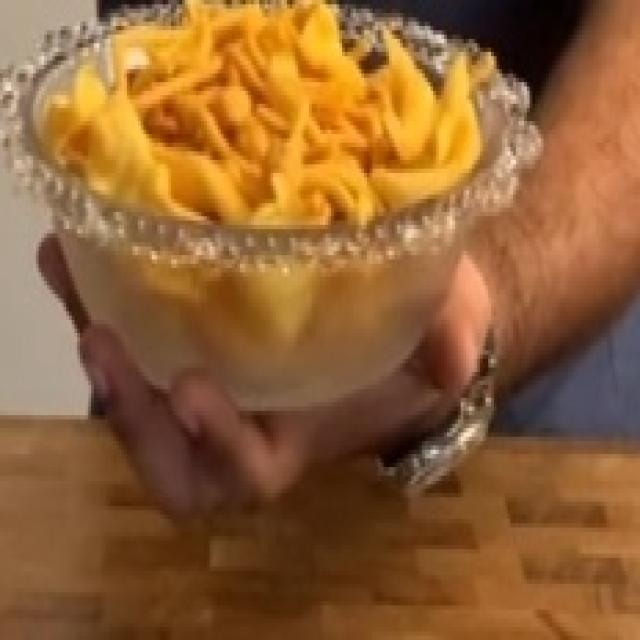Mattai: (18, 0, 523, 345)
